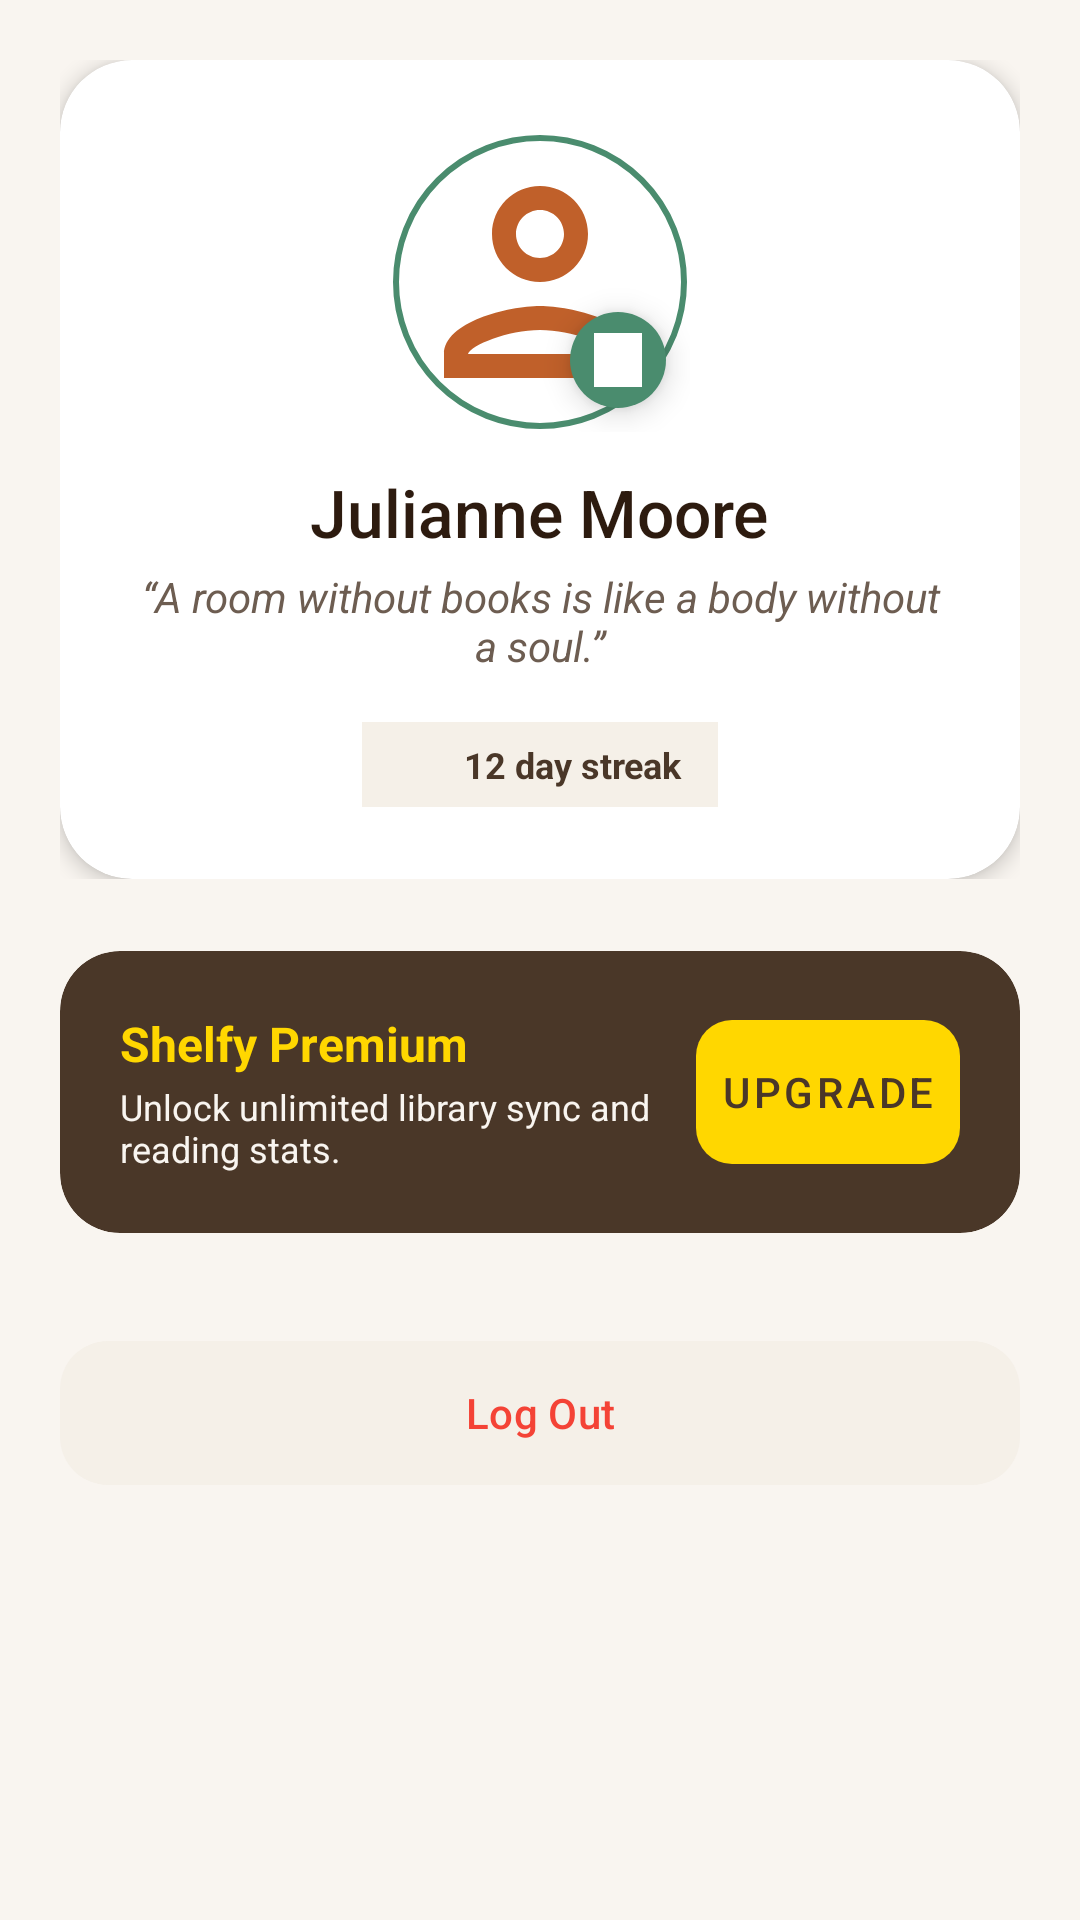

Named icons in this screenshot (1080*1920) and their bounding boxes, (x1, y1, x2, y2):
person: (393, 135, 687, 429)
